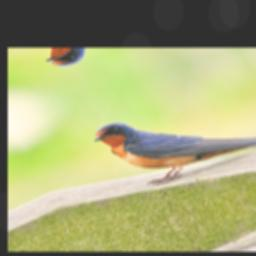Swallow: (82, 78, 256, 200)
